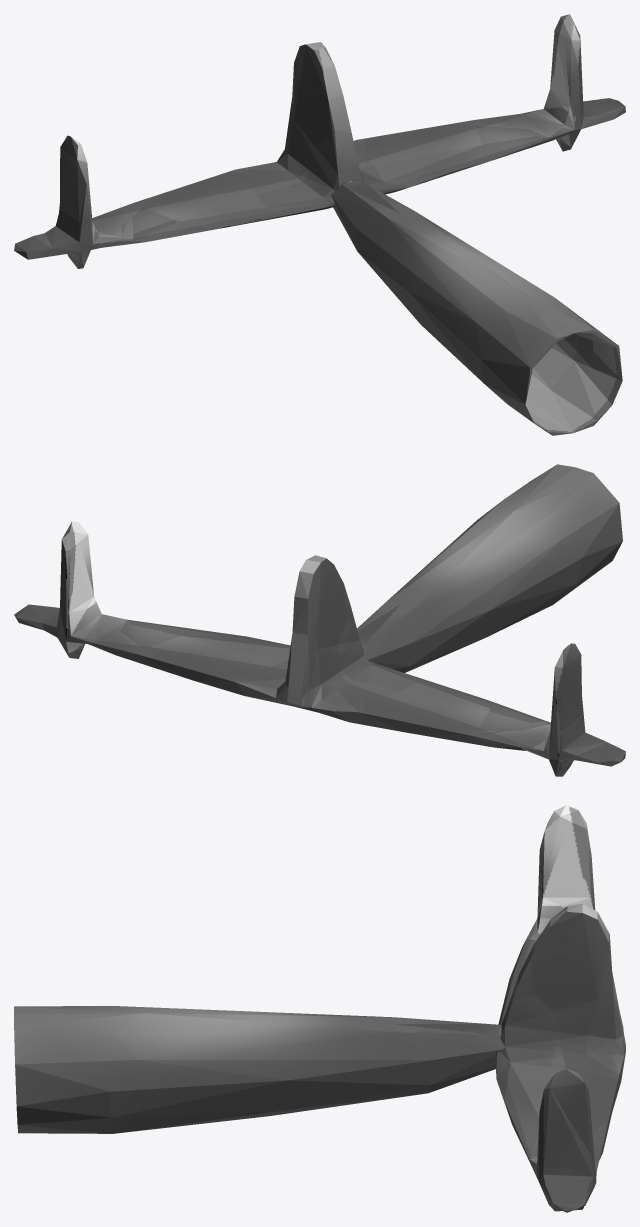
File: plane_back.obj
3 views of the same model, one above another, from view 1: azimuth 30°, elevation 25°; view 2: azimuth 150°, elevation 25°; view 3: azimuth 270°, elevation 25° (orthographic). The views are drawn at different scales.
Visible parts, largest first — view 1: Plane_back_Circle; view 2: Plane_back_Circle; view 3: Plane_back_Circle.
Part boxes in pixels (box(x1,y1,x2,y2)): Plane_back_Circle: box(14, 14, 625, 435); Plane_back_Circle: box(14, 464, 625, 776); Plane_back_Circle: box(14, 805, 625, 1212).
Size of the model in its own units: 2.96 by 0.9351 by 2.39.
